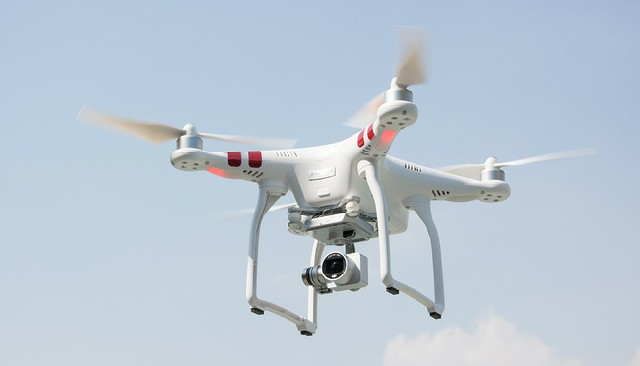maybay_khongnguoilai: (77, 77, 575, 320)
